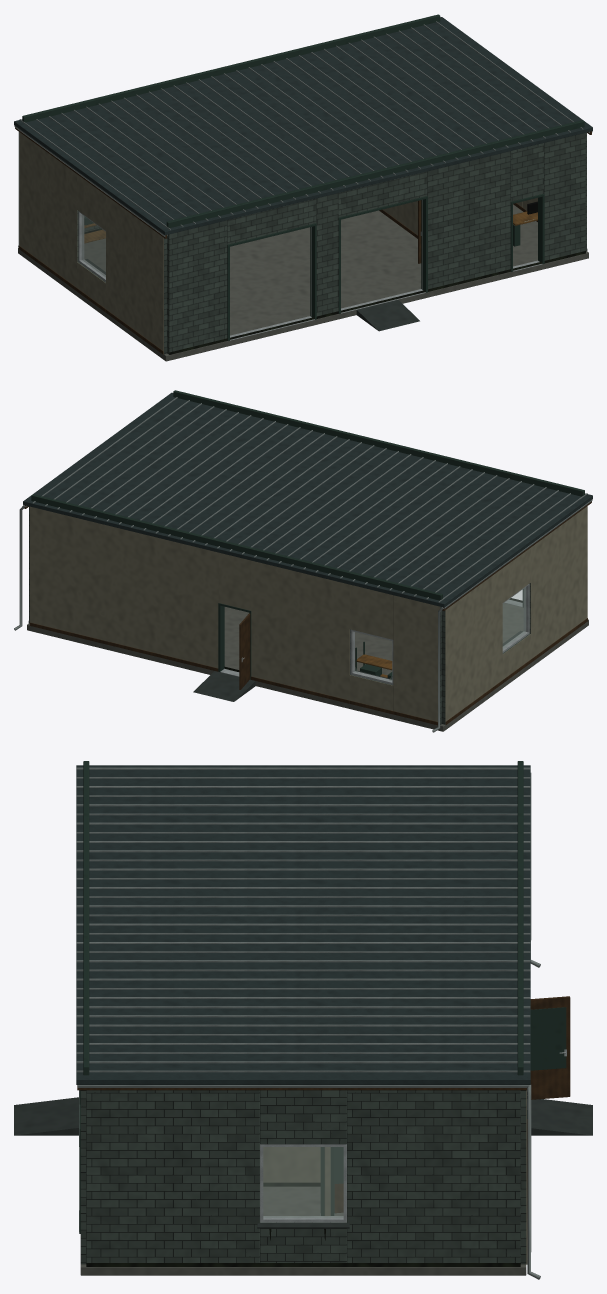
File: GR05_04_Maintenance.glb
The picture shows the model from 3 angles, top to bottom: view 1: azimuth 30°, elevation 25°; view 2: azimuth 150°, elevation 25°; view 3: azimuth 270°, elevation 25°; orthographic projection. The views are drawn at different scales.
Visible parts, largest first — view 1: Static; view 2: Static, Door_07; view 3: Static, Door_07.
Boxes of the visible parts, <box> form: Static: <box>14,14,592,361</box>; Static: <box>14,390,592,732</box>; Door_07: <box>239,613,250,689</box>; Static: <box>14,761,592,1279</box>; Door_07: <box>530,996,570,1099</box>.
Size of the model in its own units: 15.66 by 4.73 by 12.
15 materials, 13 textured.
